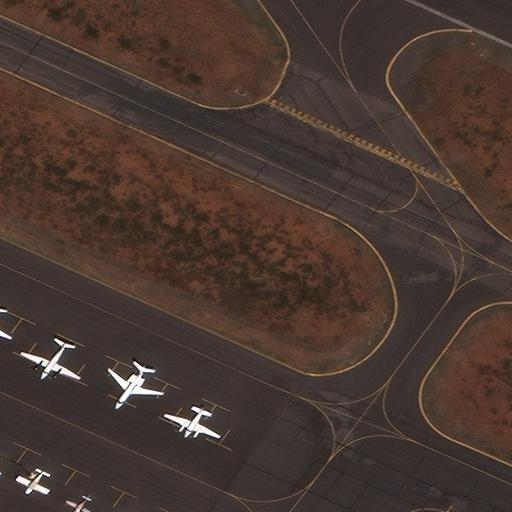Medium Civil Transport: (107, 366, 163, 408), (20, 342, 79, 379), (163, 407, 219, 438)
Small Civil Transport: (14, 470, 47, 495), (64, 495, 91, 512)
